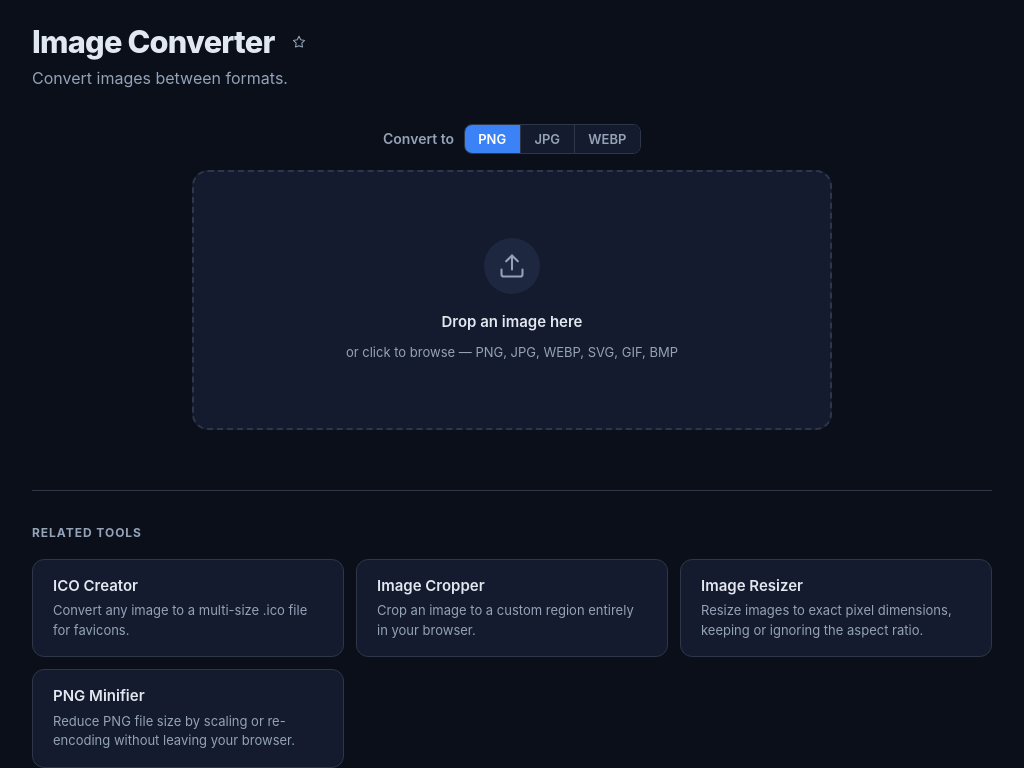
Test case: ImageConverter › shows a quality slider only for lossy formats
Note: Switching to JPG reveals it.
Click the button "JPG".
click(548, 139)  # box [521,125,575,154]
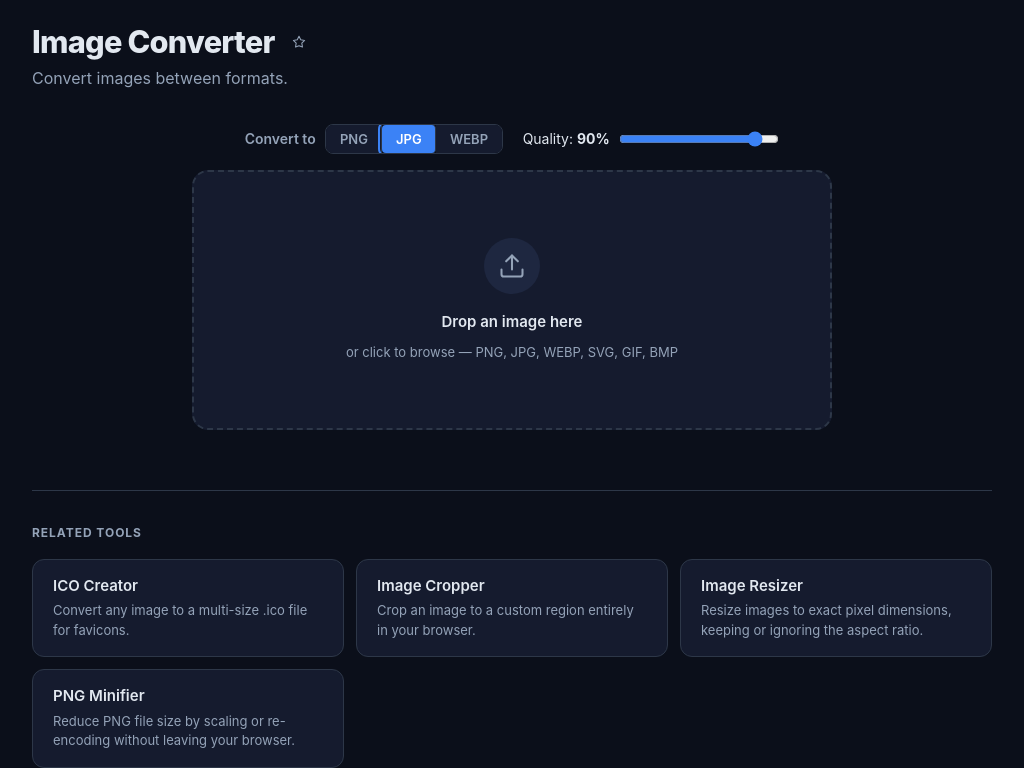
Now the slider named "image quality" is shown, box [619,131,779,147]
